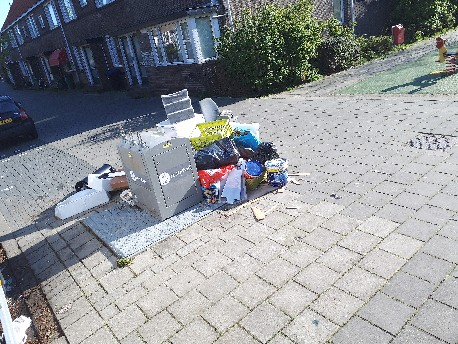Container: (127, 132, 206, 219)
Rest: (184, 90, 258, 146), (208, 148, 289, 177), (80, 169, 138, 207), (152, 91, 205, 128), (217, 177, 254, 211), (59, 191, 81, 214), (204, 125, 260, 128)
Voertuig: (1, 95, 35, 149)
